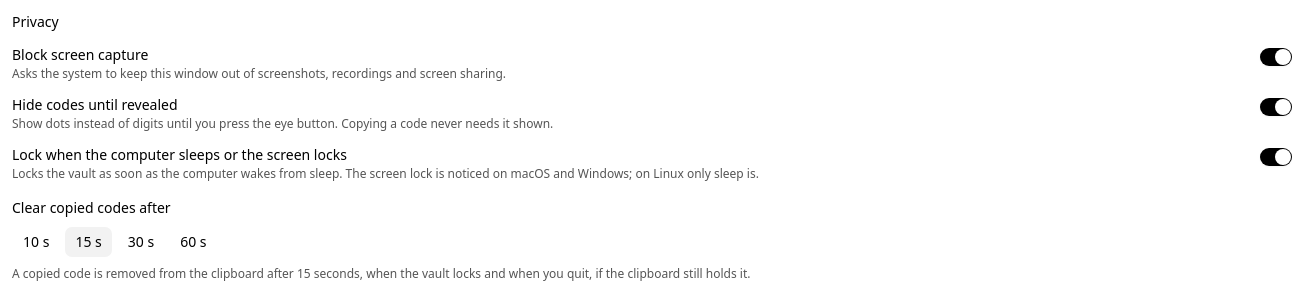
PrivacySettings locking and clipboard › marks the saved clipboard time and saves a new choice
Click the button "60 s" at [193, 242], box [169, 226, 218, 258]
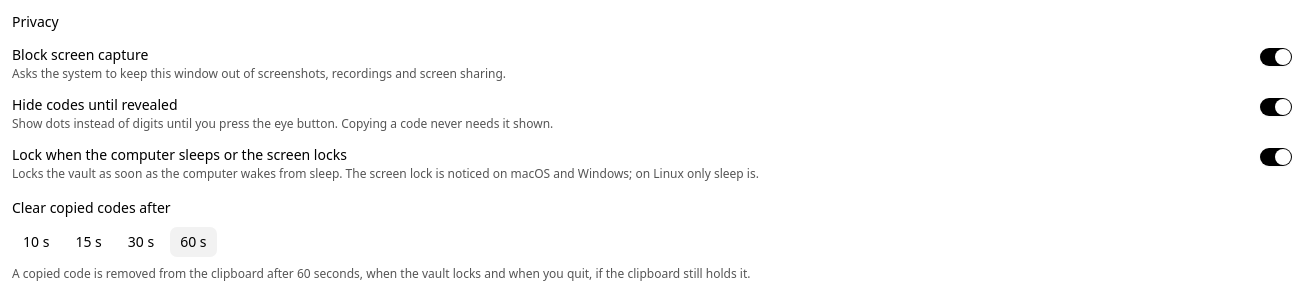
Result: the text "after 60 seconds" is shown at [12, 265, 750, 282]
